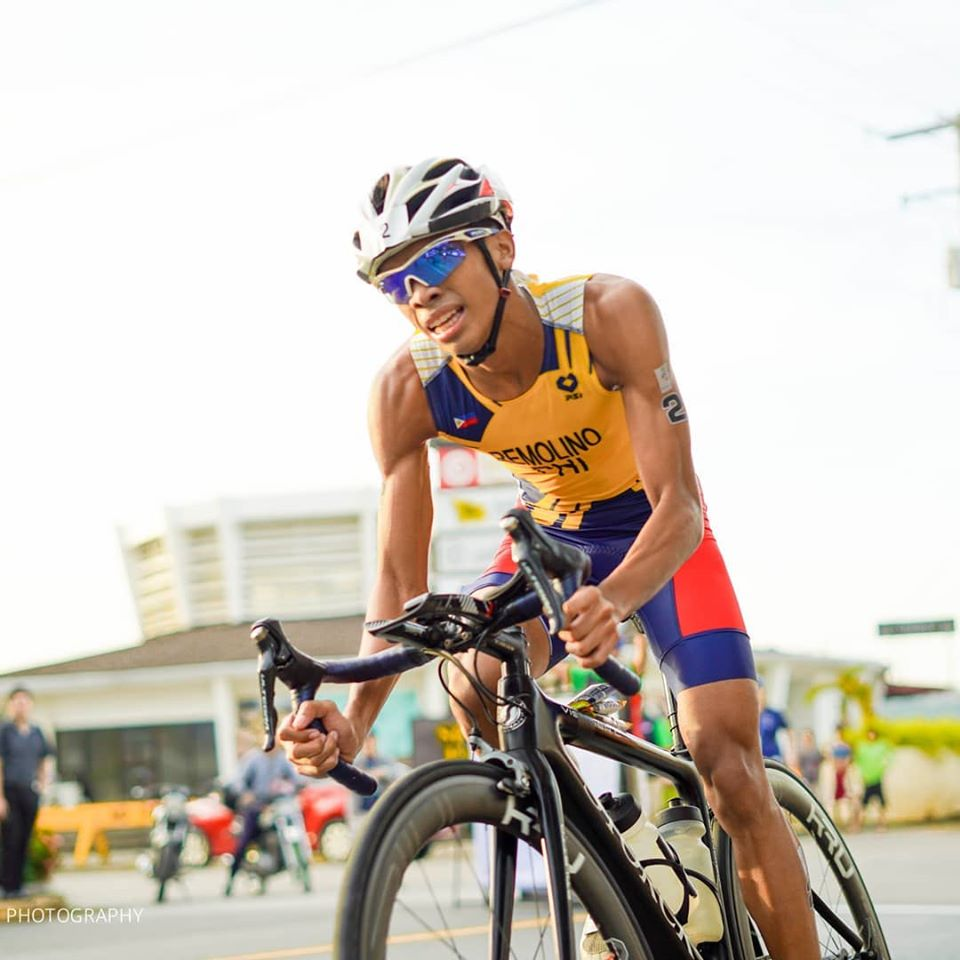bike: (249, 509, 894, 960)
person: (279, 156, 837, 960)
